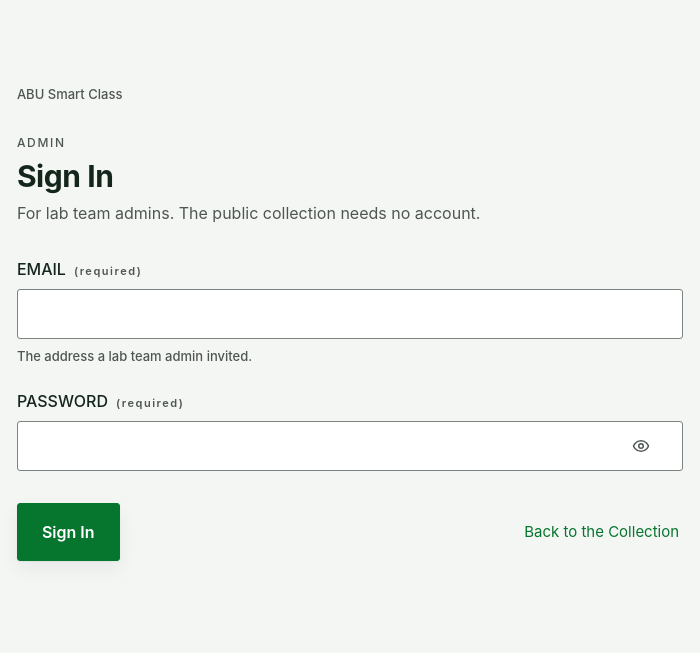
Scenario: S-05 Challenger Suite — M1 Pre-Agreed Seams › Seam 1: Client Authentication & Session Edge Cases › Attack 13: moves keyboard focus to error banner heading upon failed login submission
Type "admin@abu.edu.ng" into the field labelled "EMAIL" at (350,314), box [17, 289, 683, 339]
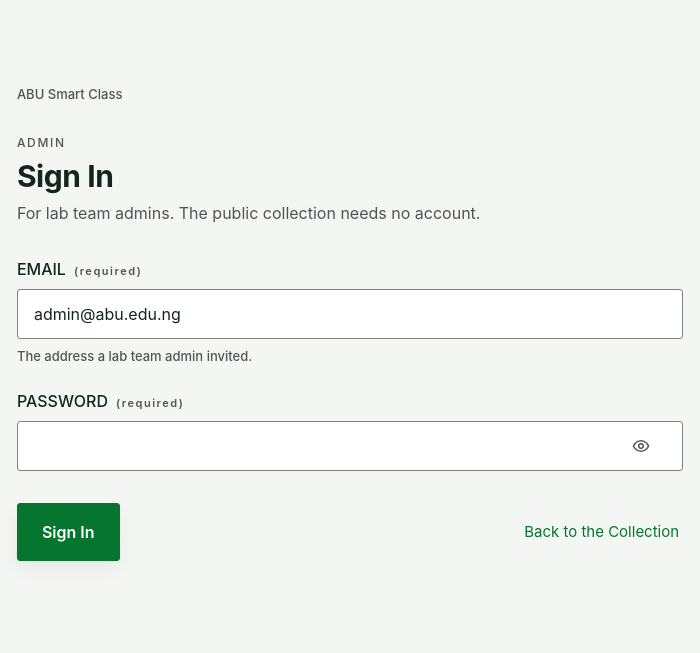
Type "badpass" into the password field labelled "PASSWORD" at (350,446), box [17, 421, 683, 471]
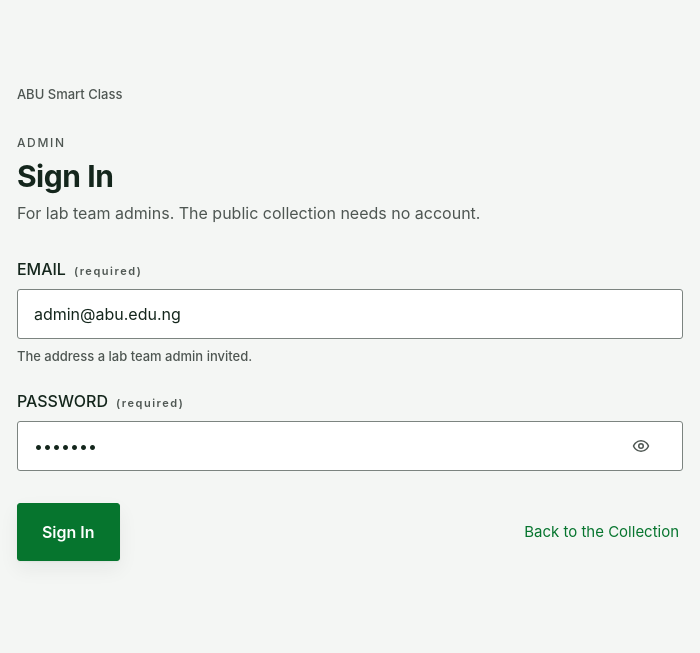
Click the button "Sign In" at (68,532), box [17, 503, 120, 561]
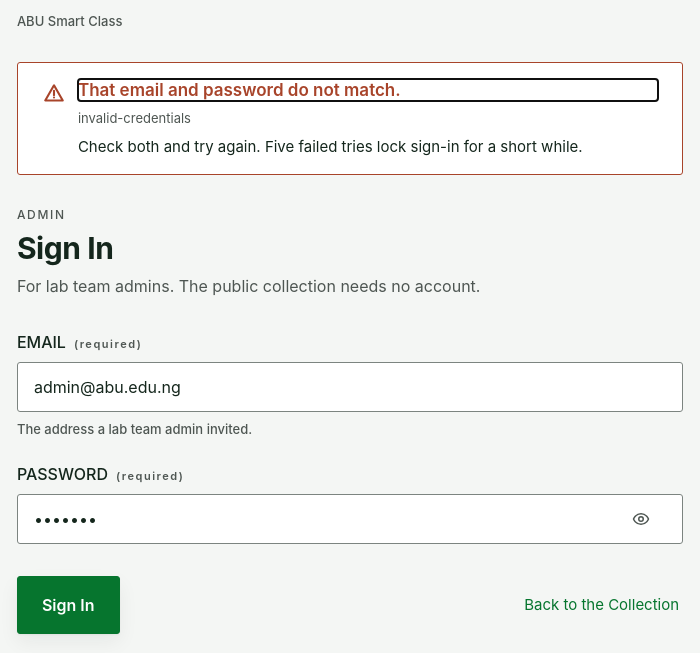
Expected: the heading "That email and password do not match." is shown, [78, 80, 401, 100]
